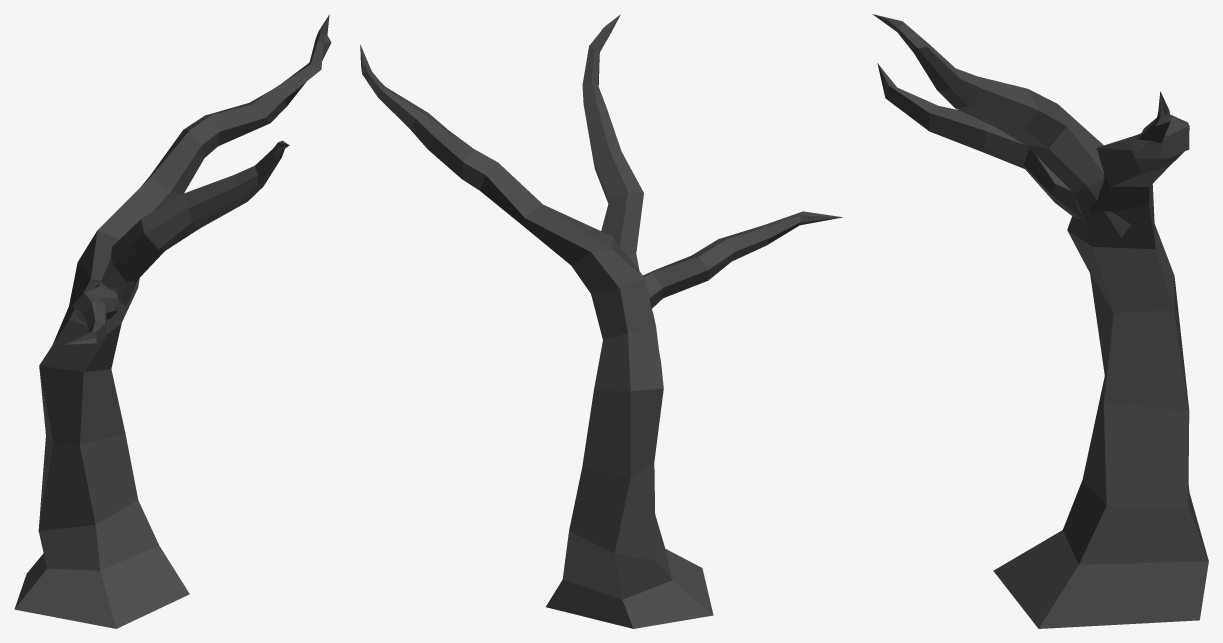
Rendered from Trunk_2.FBX.
The picture shows the model from 3 angles, left to right: view 1: azimuth 30°, elevation 25°; view 2: azimuth 150°, elevation 25°; view 3: azimuth 270°, elevation 25°; orthographic projection. The views are drawn at different scales.
Visible parts, largest first — view 1: trunk_2; view 2: trunk_2; view 3: trunk_2.
Boxes of the visible parts, bbox=[...] form: trunk_2: bbox=[14, 14, 331, 628]; trunk_2: bbox=[360, 14, 842, 628]; trunk_2: bbox=[872, 14, 1208, 628].
Bounding box in the file's own units: 4.03 × 5.17 × 2.4.
Materials: 1 (1 with a texture image).
